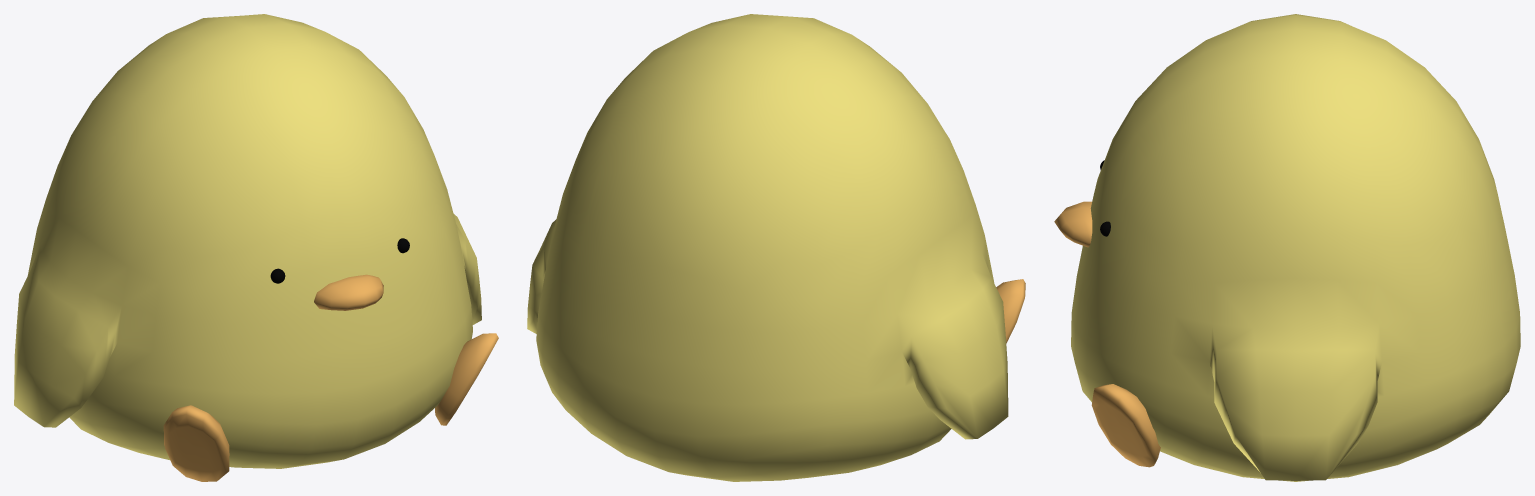
File: chick.glb
3 renders of one model, left to right at view 1: azimuth 30°, elevation 25°; view 2: azimuth 150°, elevation 25°; view 3: azimuth 270°, elevation 25°, orthographic. The views are drawn at different scales.
Parts seen in each view (by area): view 1: Body, Legs, Beak; view 2: Body, Legs; view 3: Body, Legs, Beak.
Part boxes in pixels (box(x1,y1,x2,y2)): Body: box(14, 14, 481, 468); Legs: box(163, 333, 498, 481); Beak: box(314, 274, 383, 310); Body: box(527, 14, 1008, 481); Legs: box(996, 279, 1025, 343); Body: box(1071, 14, 1520, 481); Legs: box(1091, 384, 1160, 467); Beak: box(1054, 201, 1092, 247).
Size of the model in its own units: 1.15 by 0.98 by 1.03.
